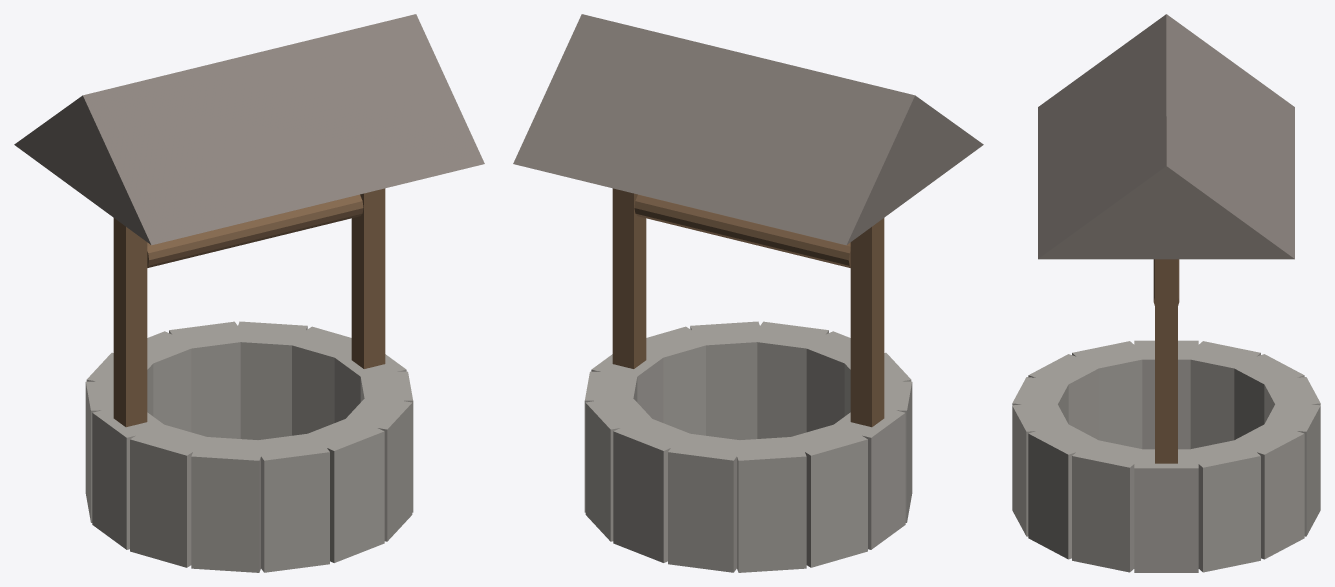
File: Well.fbx
The picture shows the model from 3 angles, left to right: view 1: azimuth 30°, elevation 25°; view 2: azimuth 150°, elevation 25°; view 3: azimuth 270°, elevation 25°; orthographic projection. The views are drawn at different scales.
Parts seen in each view (by area): view 1: Well; view 2: Well; view 3: Well.
Part boxes in pixels (x1,y1,x2,y2): Well: (14, 14, 484, 572); Well: (513, 14, 983, 572); Well: (1012, 14, 1320, 572).
Size of the model in its own units: 2.8 by 2.4 by 3.6.
